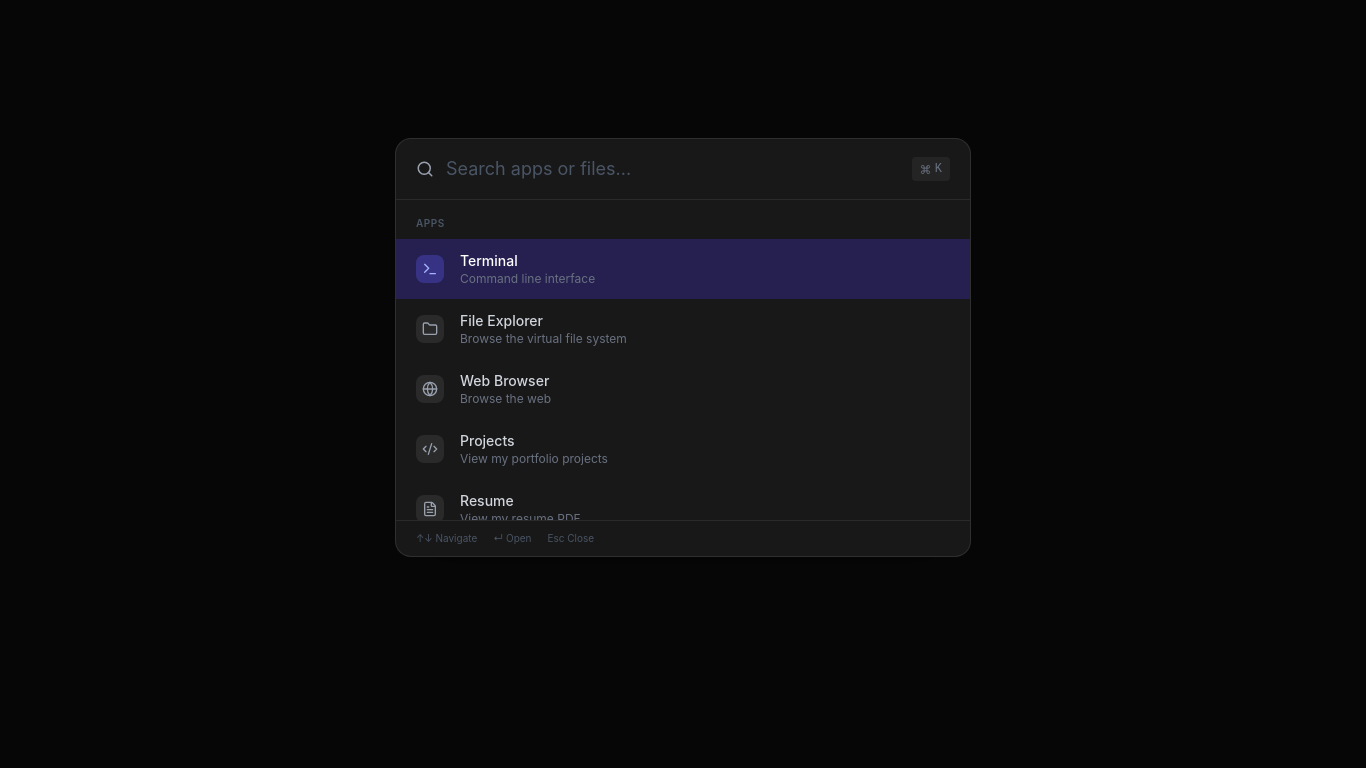
Scenario: Spotlight Component — Activity Monitor Removed › should filter results when user types a search query
Type "term" into the field with placeholder "Search apps or files...".
click(679, 169); type("term")  # box [446, 155, 912, 183]
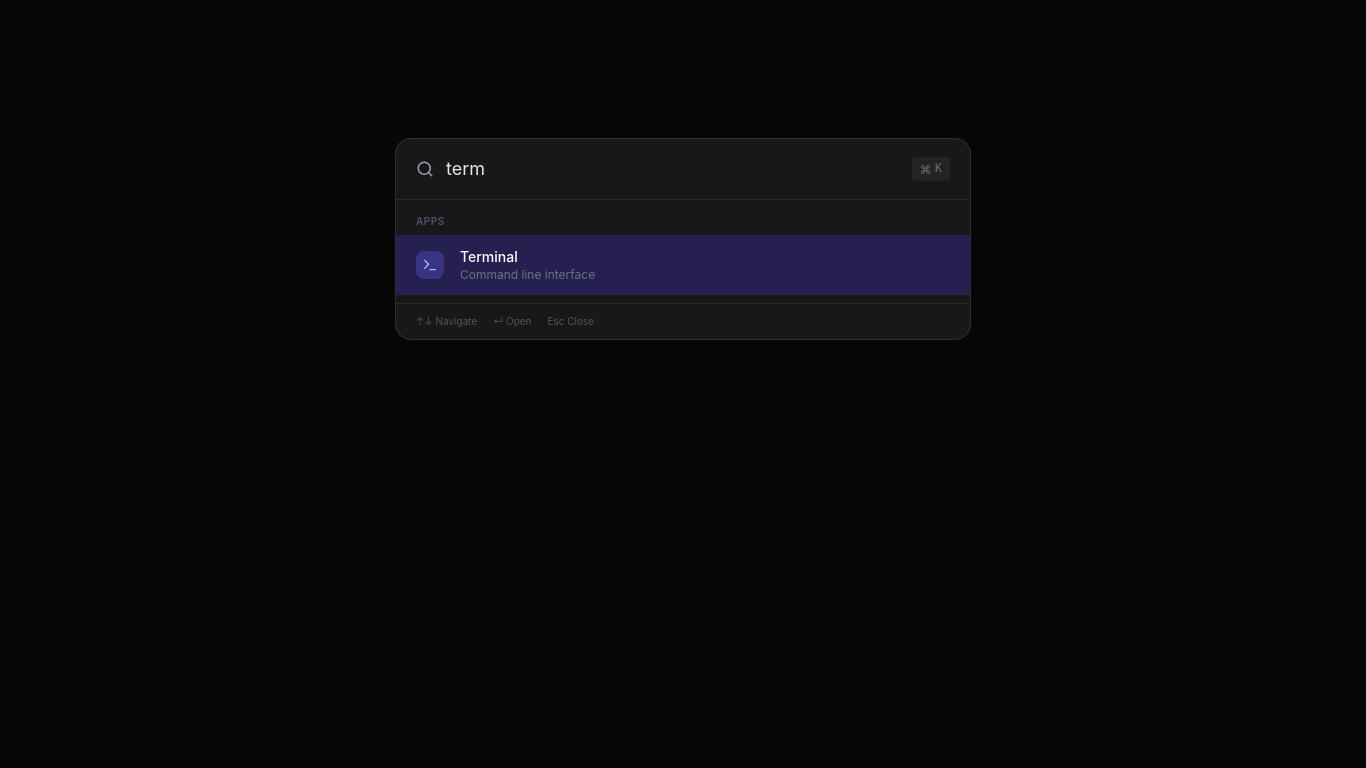
Expected: the text "Terminal" is shown, [460, 248, 518, 265]
Expected: the button "Projects" is gone
